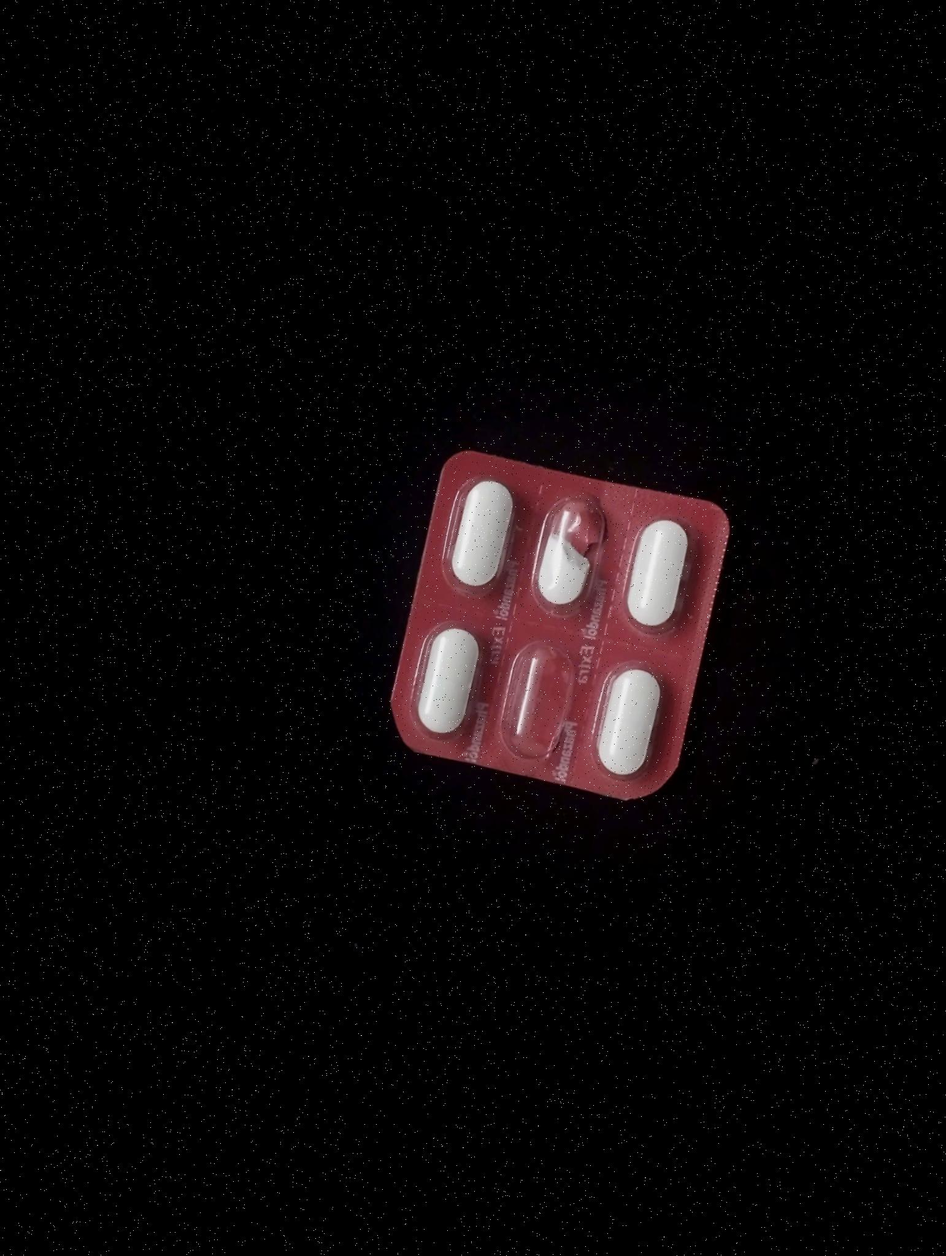Empty: (490, 634, 583, 778)
Full: (582, 662, 675, 792), (439, 466, 528, 594), (406, 617, 491, 747), (613, 510, 700, 637)
Partial: (521, 488, 613, 622)
